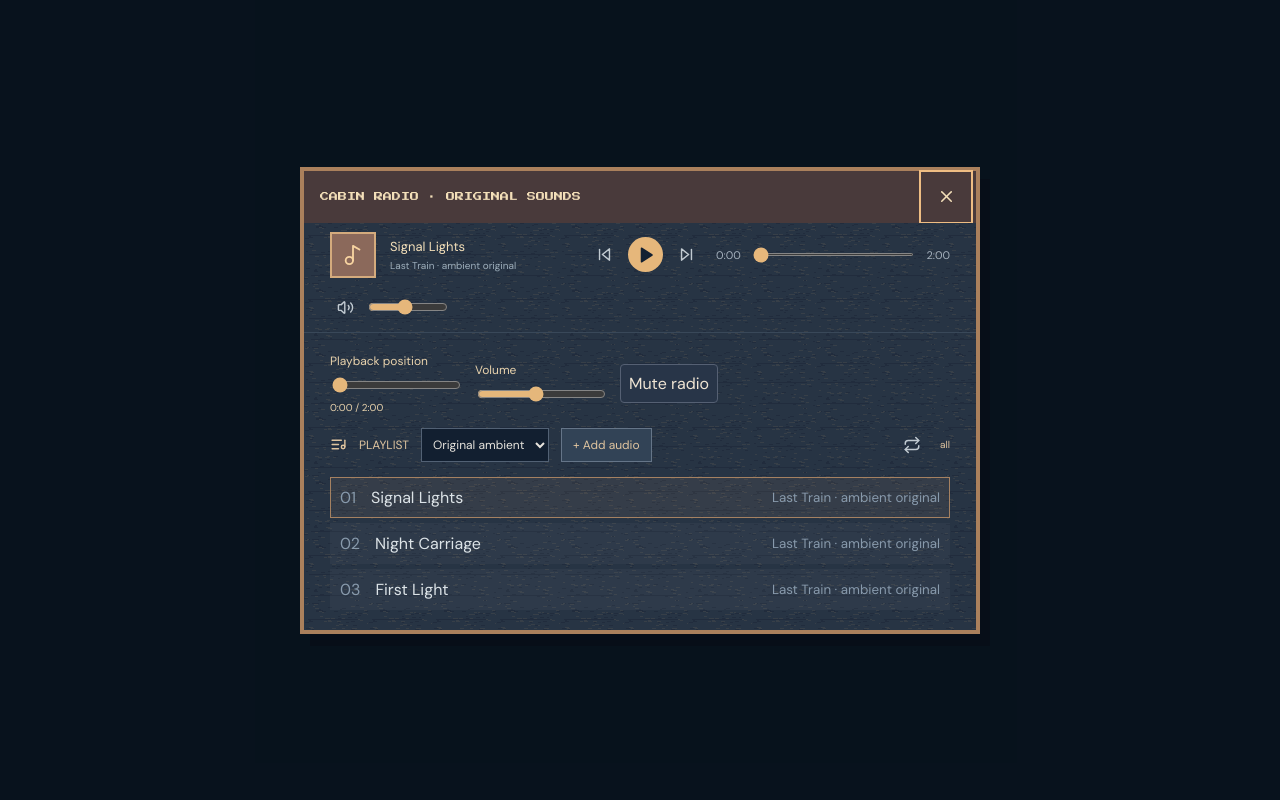
it: critical frontend flows › plays, switches and pauses original radio tracks
Click the button named "Play music" at [646, 254], box x1=628 y1=237 x2=663 y2=272
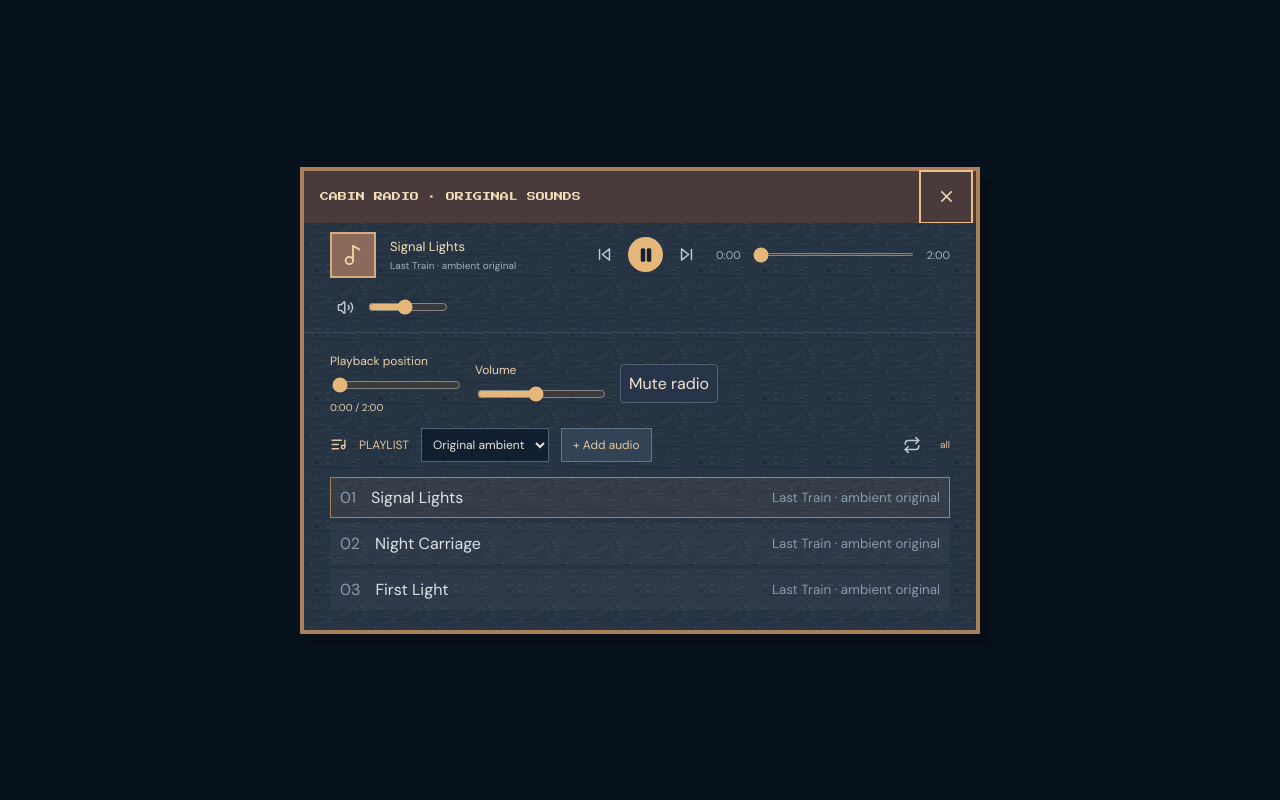
expect the button named "Pause music" is shown: met, box x1=628 y1=237 x2=663 y2=272
Click the button named "Next track" at [686, 254], box x1=671 y1=239 x2=702 y2=270
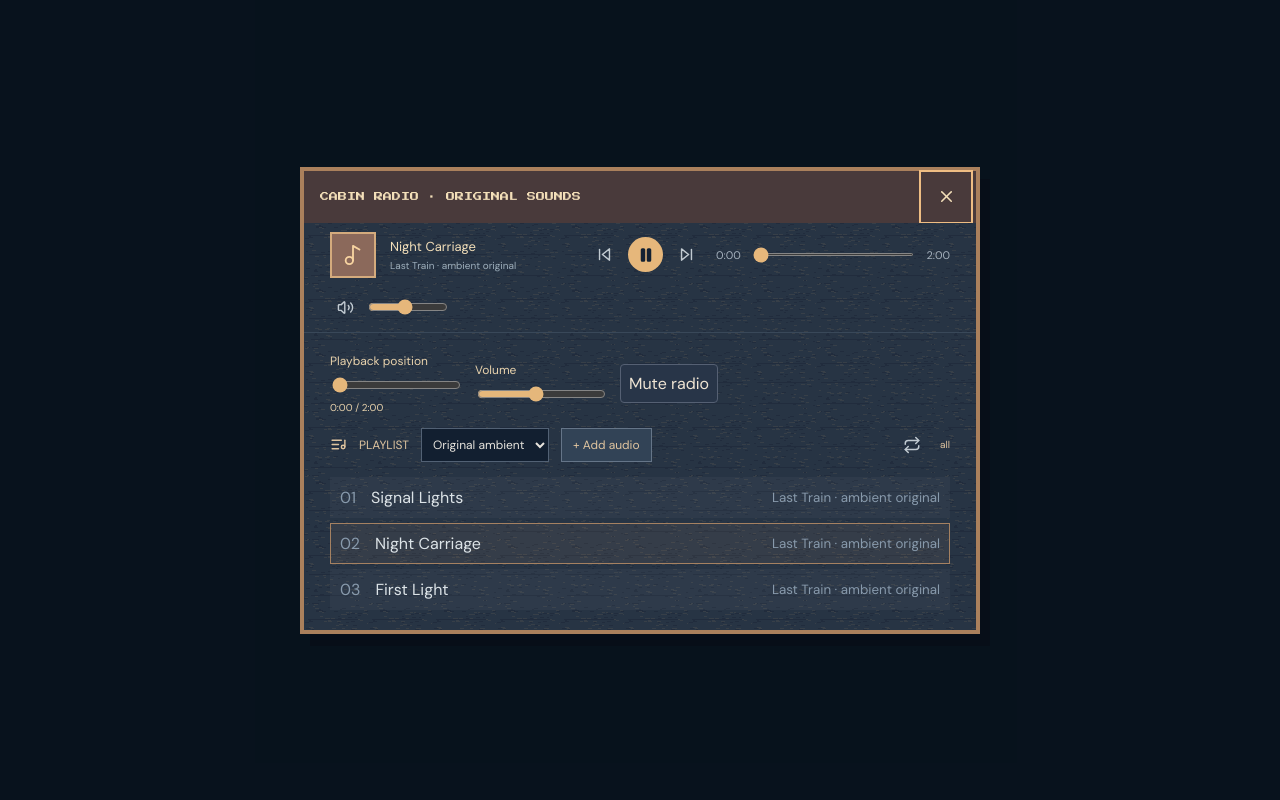
expect the 1st text titled "Night Carriage" is shown: met, box x1=390 y1=238 x2=476 y2=254
Click the button named "Pause music" at [646, 254], box x1=628 y1=237 x2=663 y2=272
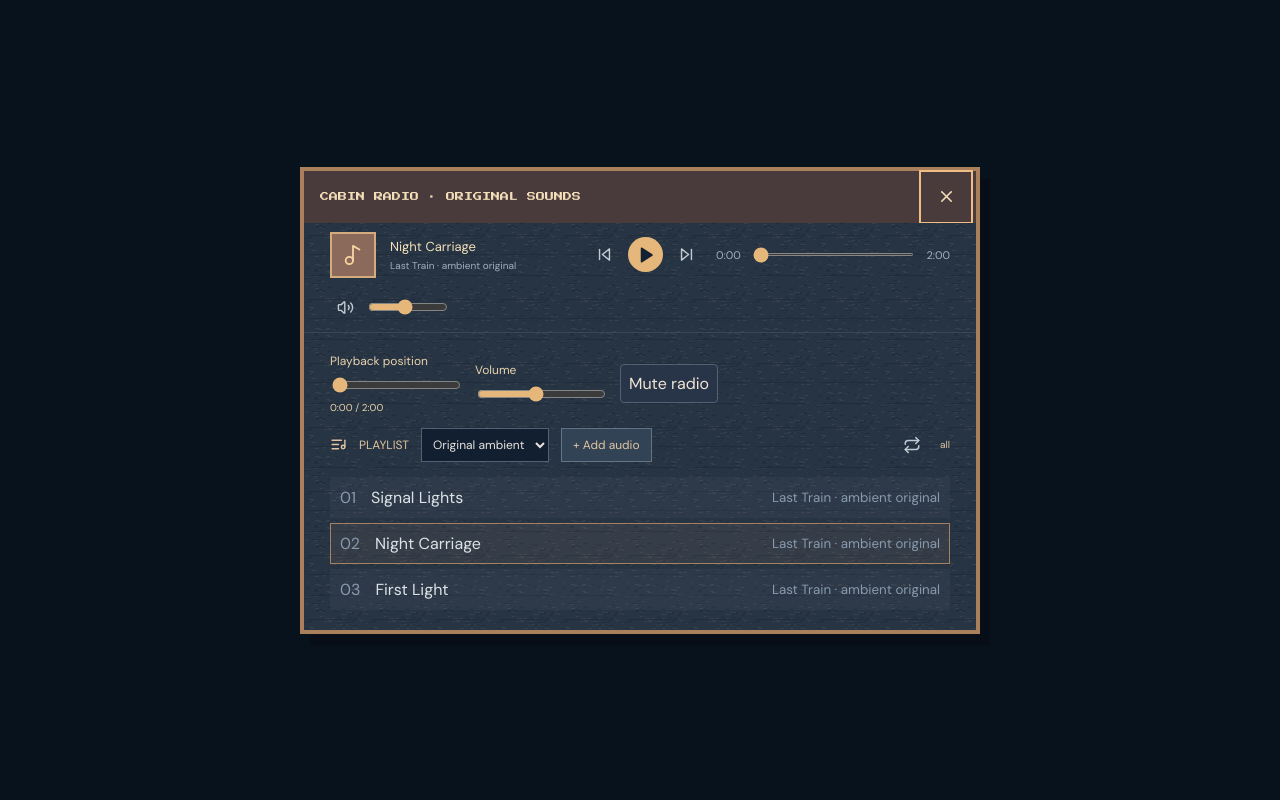
expect the button named "Play music" is shown: met, box x1=628 y1=237 x2=663 y2=272
